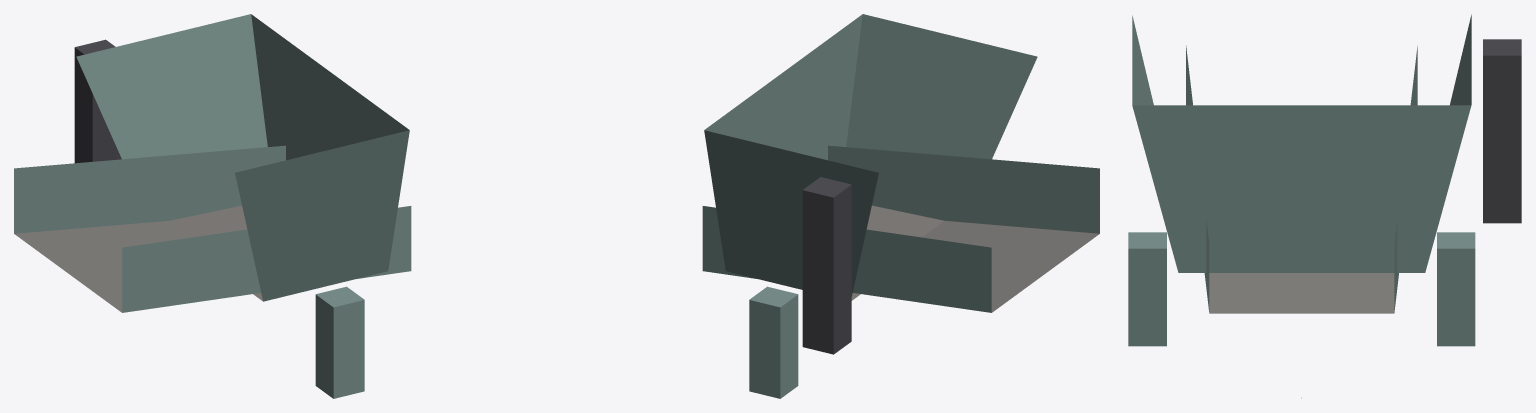
The model's file is SK_LoadingChute.glb.
The picture shows the model from 3 angles, left to right: view 1: azimuth 30°, elevation 25°; view 2: azimuth 150°, elevation 25°; view 3: azimuth 270°, elevation 25°; orthographic projection. The views are drawn at different scales.
Visible parts, largest first — view 1: SK_Chute_Hopper, SK_Chute_Lip; view 2: SK_Chute_Hopper, SK_Chute_Lip; view 3: SK_Chute_Hopper, SK_Chute_Lip.
Boxes of the visible parts, box(x1,y1,x2,y2) form: SK_Chute_Hopper: box(74, 14, 409, 398); SK_Chute_Lip: box(14, 145, 411, 312); SK_Chute_Hopper: box(704, 14, 1037, 398); SK_Chute_Lip: box(702, 145, 1099, 312); SK_Chute_Hopper: box(1128, 14, 1521, 346); SK_Chute_Lip: box(1186, 45, 1417, 313).
Size of the model in its own units: 3.8 by 1.9 by 2.55.
